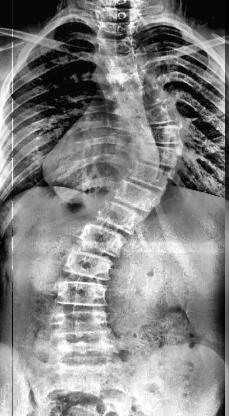Vertebrae: (111, 178, 163, 218), (62, 358, 130, 387), (53, 280, 115, 309), (98, 200, 144, 234), (58, 331, 120, 355), (84, 222, 126, 256), (130, 162, 174, 192), (61, 251, 111, 277), (54, 312, 117, 332), (140, 142, 186, 168), (111, 66, 159, 90), (133, 102, 180, 126), (122, 84, 170, 106), (134, 126, 190, 144), (101, 54, 143, 74), (96, 37, 140, 53), (98, 20, 136, 38)
